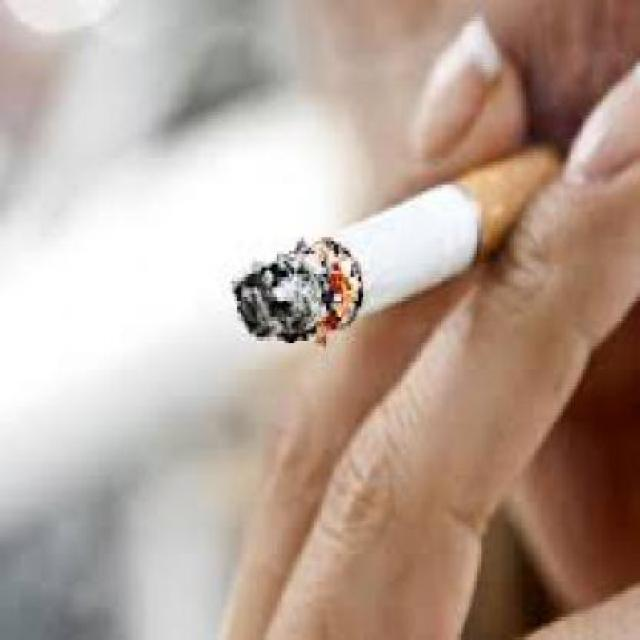cigarette: (232, 132, 563, 350)
